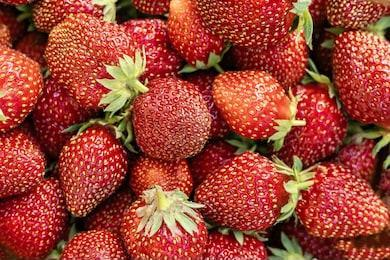Fresa: (41, 9, 143, 111), (193, 149, 295, 238), (55, 111, 131, 222), (295, 157, 390, 245), (126, 72, 214, 166), (209, 64, 297, 151), (267, 71, 347, 165), (326, 23, 390, 132), (118, 186, 209, 260)
